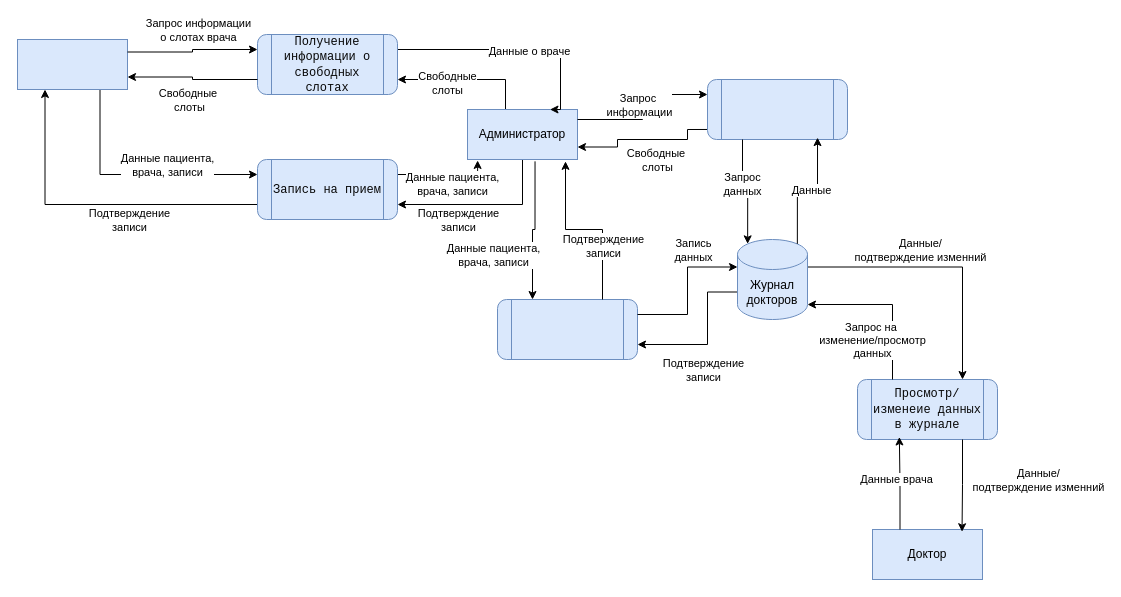
The diagram is 1121 pixels wide and 597 high, and some of its shapes have lost their labels. The shapes that lost their labels are listed below. From the top down, each one's box as (x1, y1, x2, y2) in pixels, then its label:
(16, 38, 128, 90): Пациент
(706, 78, 848, 140): Поиск информации о слотах врача
(496, 298, 638, 360): Внесение информации в журнал
